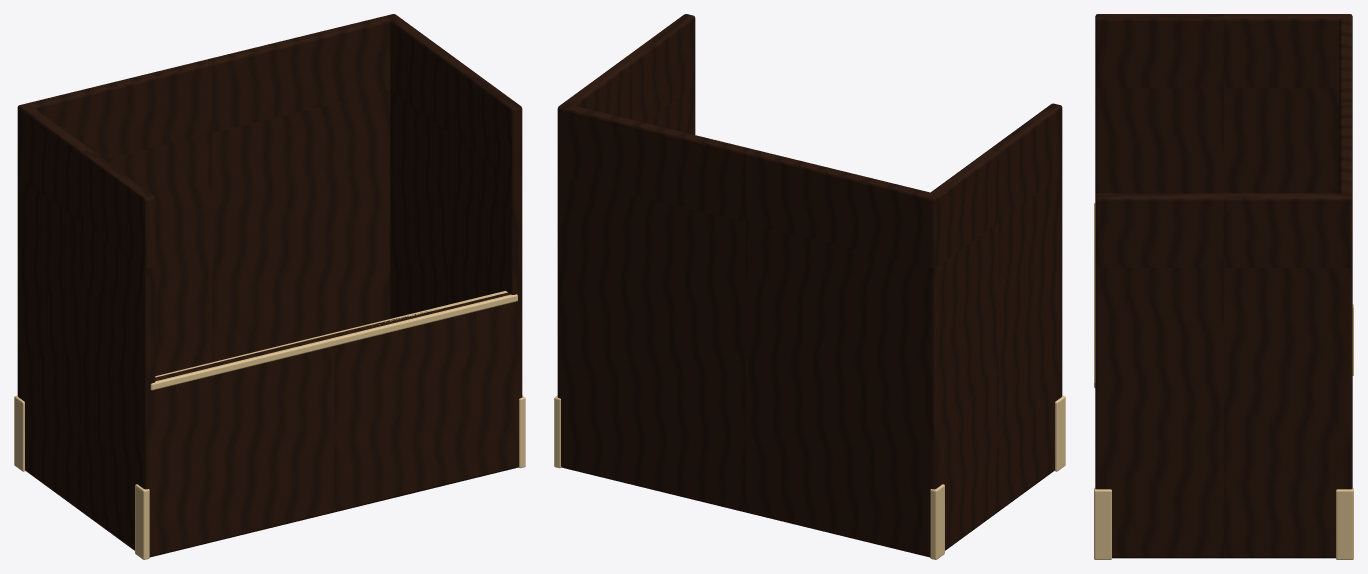
Rendered from poster_flip_bin.glb.
3 views of the same model, side by side, from view 1: azimuth 30°, elevation 25°; view 2: azimuth 150°, elevation 25°; view 3: azimuth 270°, elevation 25° (orthographic).
Visible parts, largest first — view 1: back_wall, front_wall, side_-1, side_1, floor, front_rail, corner_-1_0.19, corner_-1_-0.19; view 2: back_wall, side_-1, floor, side_1, corner_-1_-0.19, corner_-1_0.19; view 3: side_1, side_-1, back_wall, corner_1_-0.19, corner_1_0.19, front_rail.
Part boxes in pixels (x1,y1,x2,y2): back_wall: (17,14,397,398); front_wall: (140,292,520,554); side_-1: (20,103,155,557); side_1: (389,14,522,467); floor: (25,436,518,556); front_rail: (150,291,517,390); corner_-1_0.19: (135,484,149,559); corner_-1_-0.19: (14,395,25,471); back_wall: (559,103,939,555); side_-1: (926,103,1062,556); floor: (561,436,1054,557); side_1: (557,14,695,451); corner_-1_-0.19: (930,484,944,559); corner_-1_0.19: (1054,395,1065,471); side_1: (1095,193,1352,558); side_-1: (1095,14,1352,194); back_wall: (1339,14,1352,198); corner_1_-0.19: (1336,488,1353,559); corner_1_0.19: (1094,488,1111,559); front_rail: (1094,203,1095,387).
Size of the model in its own units: 0.688 by 0.62 by 0.404.
Materials: 2 (1 with a texture image).
